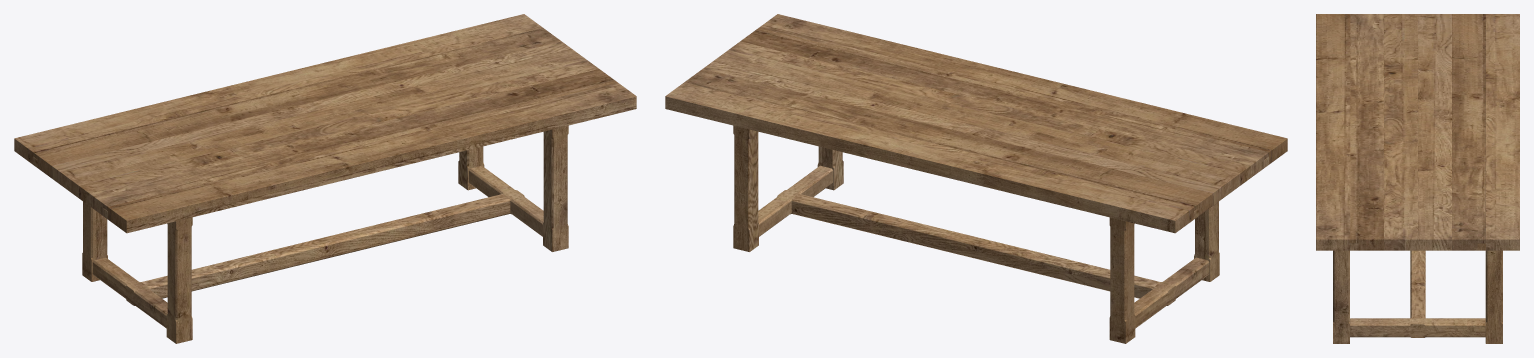
File: cayden-dining-table.glb
The picture shows the model from 3 angles, left to right: view 1: azimuth 30°, elevation 25°; view 2: azimuth 150°, elevation 25°; view 3: azimuth 270°, elevation 25°; orthographic projection. The views are drawn at different scales.
Parts seen in each view (by area): view 1: product; view 2: product; view 3: product.
Part boxes in pixels (<box>): product: <box>14,14,636,343</box>; product: <box>665,14,1287,343</box>; product: <box>1316,14,1519,343</box>.
Size of the model in its own units: 1 by 0.2708 by 0.3821.
1 material, 1 textured.
